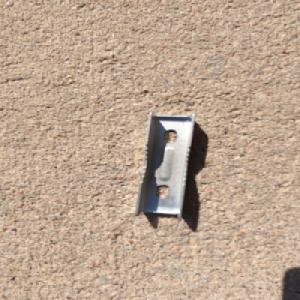ClampPart: (133, 110, 198, 219)
